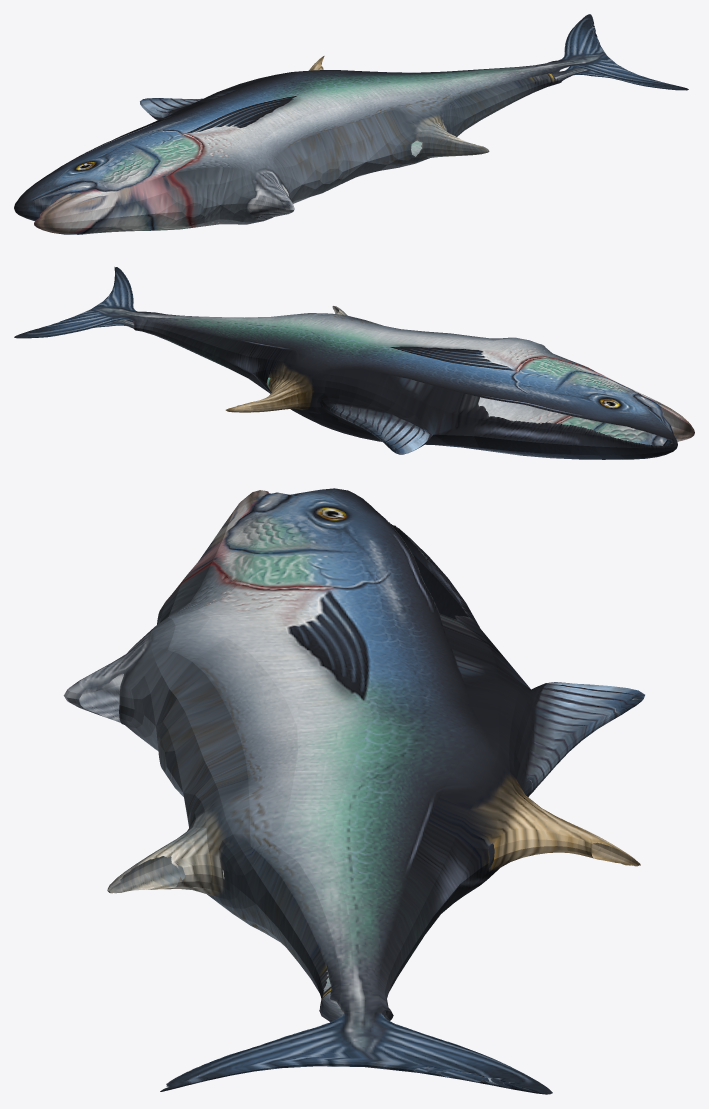
Rendered from tuna2.fbx.
The picture shows the model from 3 angles, top to bottom: view 1: azimuth 30°, elevation 25°; view 2: azimuth 150°, elevation 25°; view 3: azimuth 270°, elevation 25°; orthographic projection. The views are drawn at different scales.
Parts seen in each view (by area): view 1: Cube; view 2: Cube; view 3: Cube.
Boxes of the visible parts, bbox=[...] form: Cube: bbox=[14, 14, 688, 234]; Cube: bbox=[14, 267, 694, 459]; Cube: bbox=[63, 488, 644, 1094].
Size of the model in its own units: 13.68 by 1.58 by 5.65.
